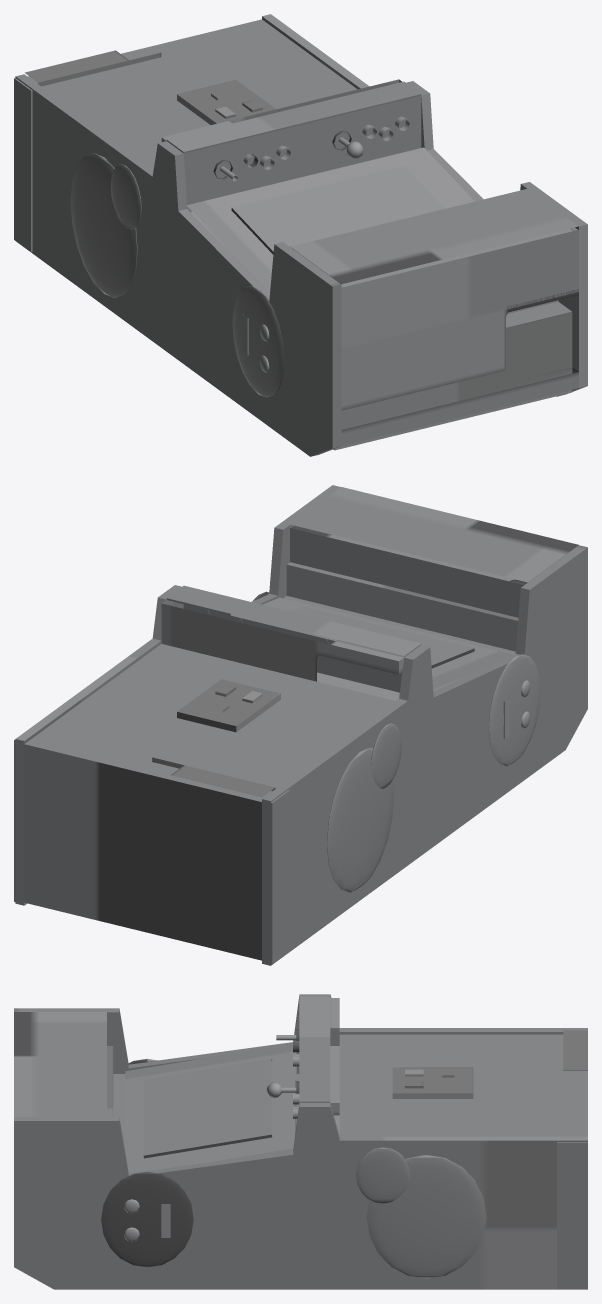
3 views of the same model, one above another, from view 1: azimuth 30°, elevation 25°; view 2: azimuth 150°, elevation 25°; view 3: azimuth 270°, elevation 25° (orthographic). The views are drawn at different scales.
Size of the model in its own units: 0.8936 by 0.655 by 1.85.
